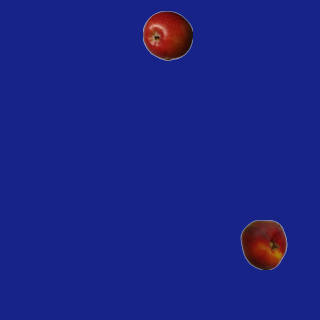Apple Braeburn: (142, 10, 192, 60)
Nectarine Flat: (238, 219, 288, 269)
